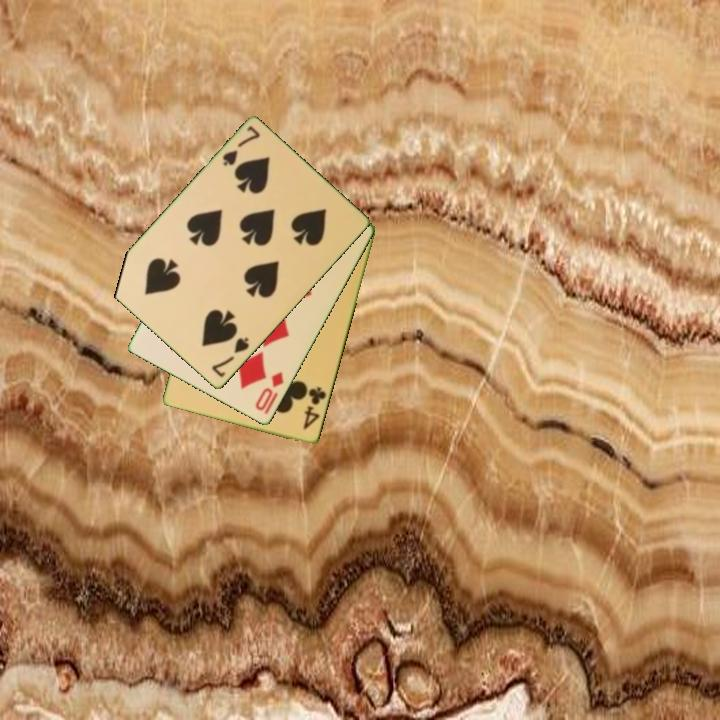10d: (252, 369, 287, 414)
4c: (300, 384, 329, 433)
7s: (208, 334, 252, 381), (219, 123, 263, 170)
